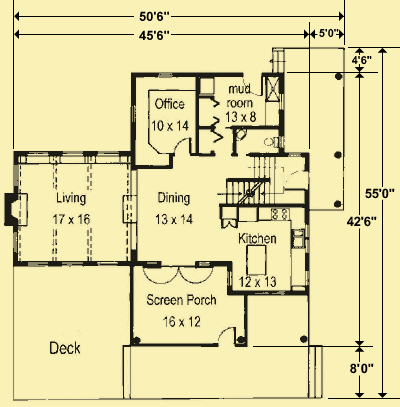door: (239, 71, 266, 97), (211, 323, 240, 347), (170, 135, 195, 158), (218, 216, 239, 232)
large sink: (260, 136, 281, 149)
stairs: (214, 157, 288, 208), (305, 343, 326, 402), (267, 47, 289, 73)
windows: (25, 257, 122, 271), (19, 149, 122, 162), (250, 289, 287, 299), (303, 220, 312, 255), (127, 102, 139, 128), (154, 70, 179, 82)
